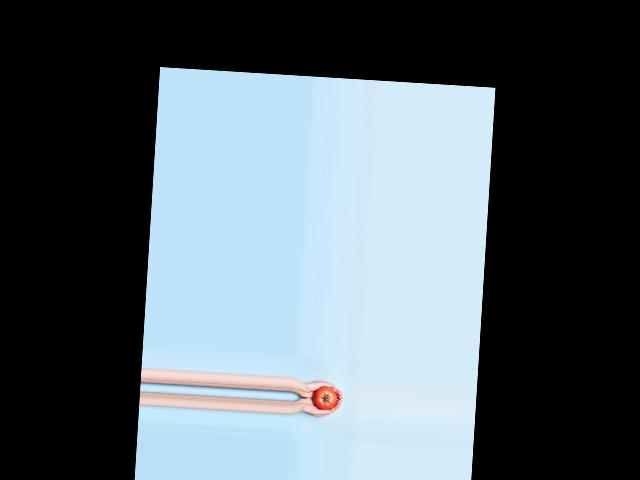tomato: (312, 386, 337, 411)
